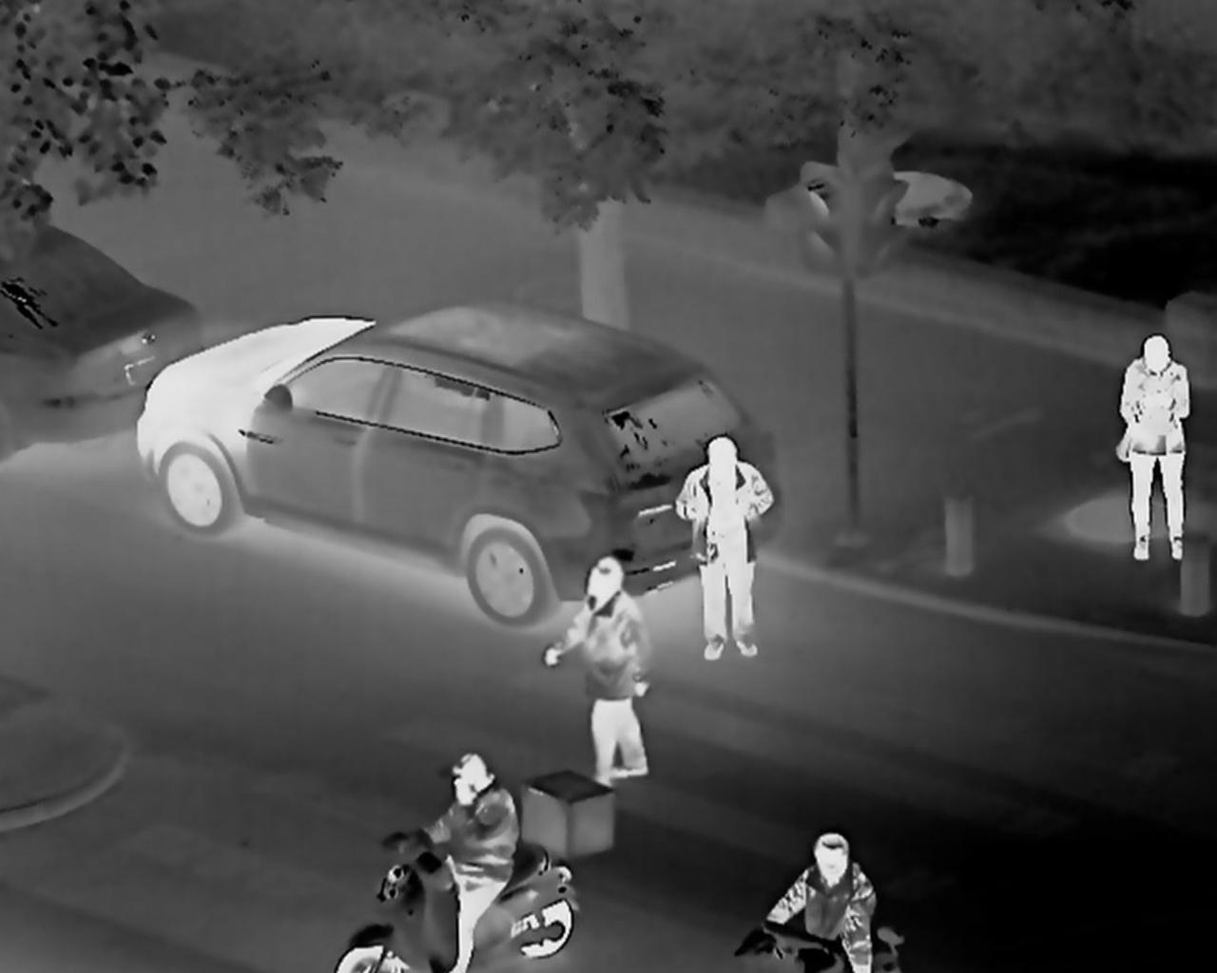person: (686, 424, 780, 676), (403, 738, 502, 969), (1112, 322, 1203, 563), (576, 561, 665, 796), (787, 821, 890, 973)
